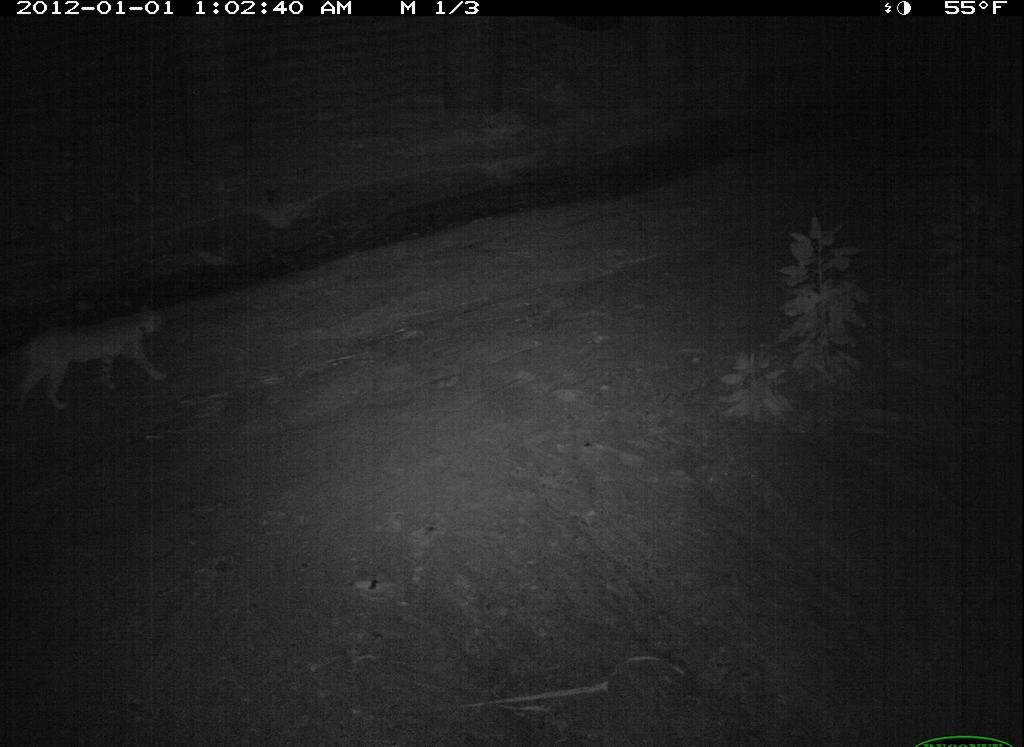bobcat: (7, 305, 172, 411)
